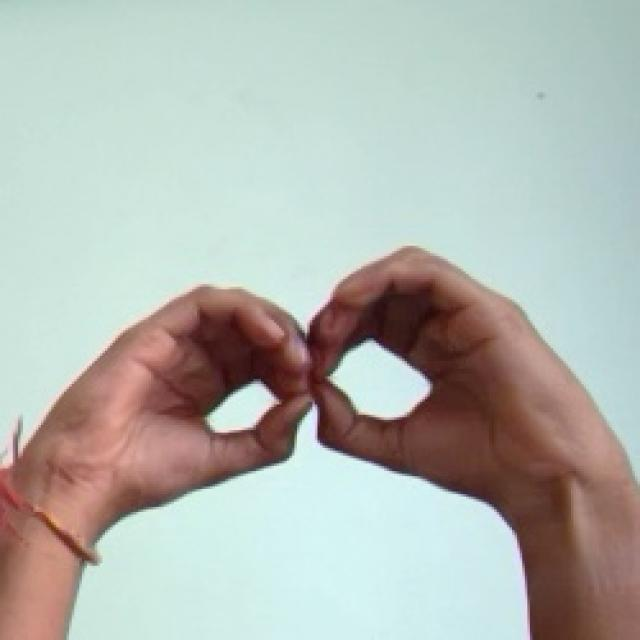Alphabet-B: (42, 225, 593, 508)
